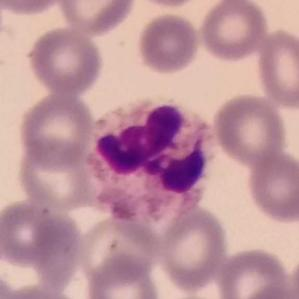Neutrophil: (87, 100, 221, 220)
RBC: (155, 204, 231, 292), (74, 211, 161, 286), (15, 91, 96, 170), (0, 198, 81, 272), (15, 141, 98, 213), (211, 92, 289, 168), (24, 25, 106, 96), (0, 233, 74, 299), (196, 0, 270, 63), (214, 245, 296, 299), (134, 11, 202, 76), (244, 149, 299, 226), (254, 26, 299, 111), (82, 254, 164, 299), (56, 0, 138, 36), (1, 0, 68, 17), (2, 286, 84, 299), (241, 280, 299, 298), (129, 0, 207, 10)
